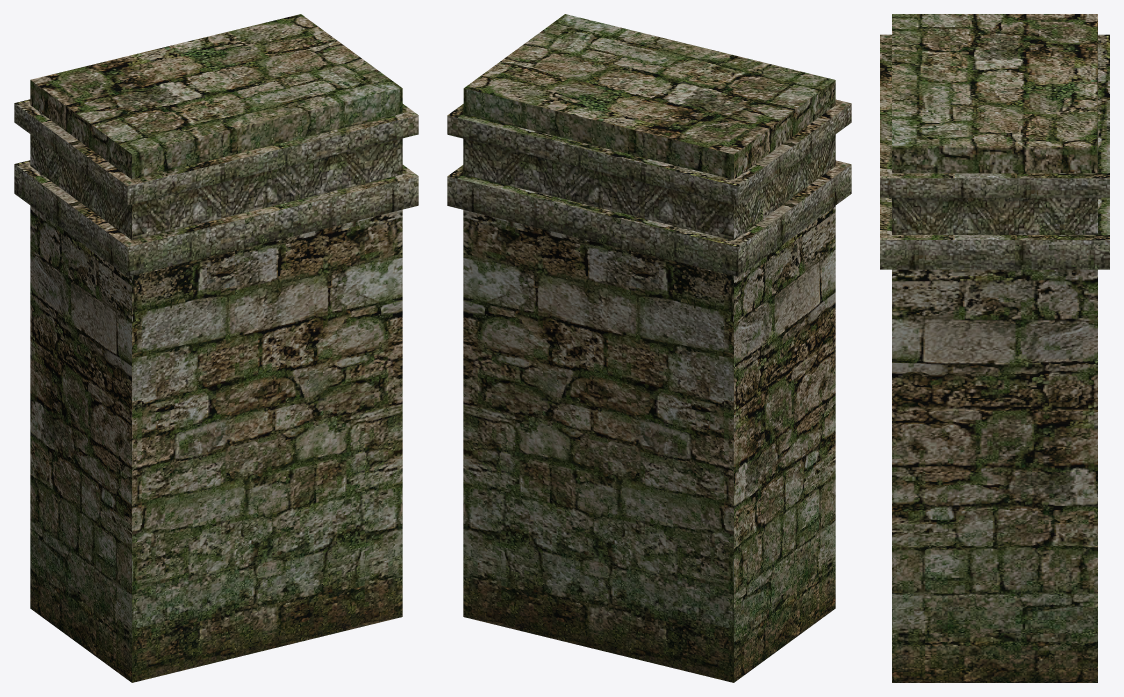
File: CARC04.glb
3 renders of one model, left to right at view 1: azimuth 30°, elevation 25°; view 2: azimuth 150°, elevation 25°; view 3: azimuth 270°, elevation 25°, orthographic.
Parts seen in each view (by area): view 1: _CARC04; view 2: _CARC04; view 3: _CARC04.
Part boxes in pixels (x1,y1,x2,y2): _CARC04: (14, 14, 418, 682); _CARC04: (447, 14, 851, 682); _CARC04: (880, 14, 1109, 682).
Bounding box in the file's own units: 2.36 × 4.09 × 1.59.
Materials: 1 (1 with a texture image).
